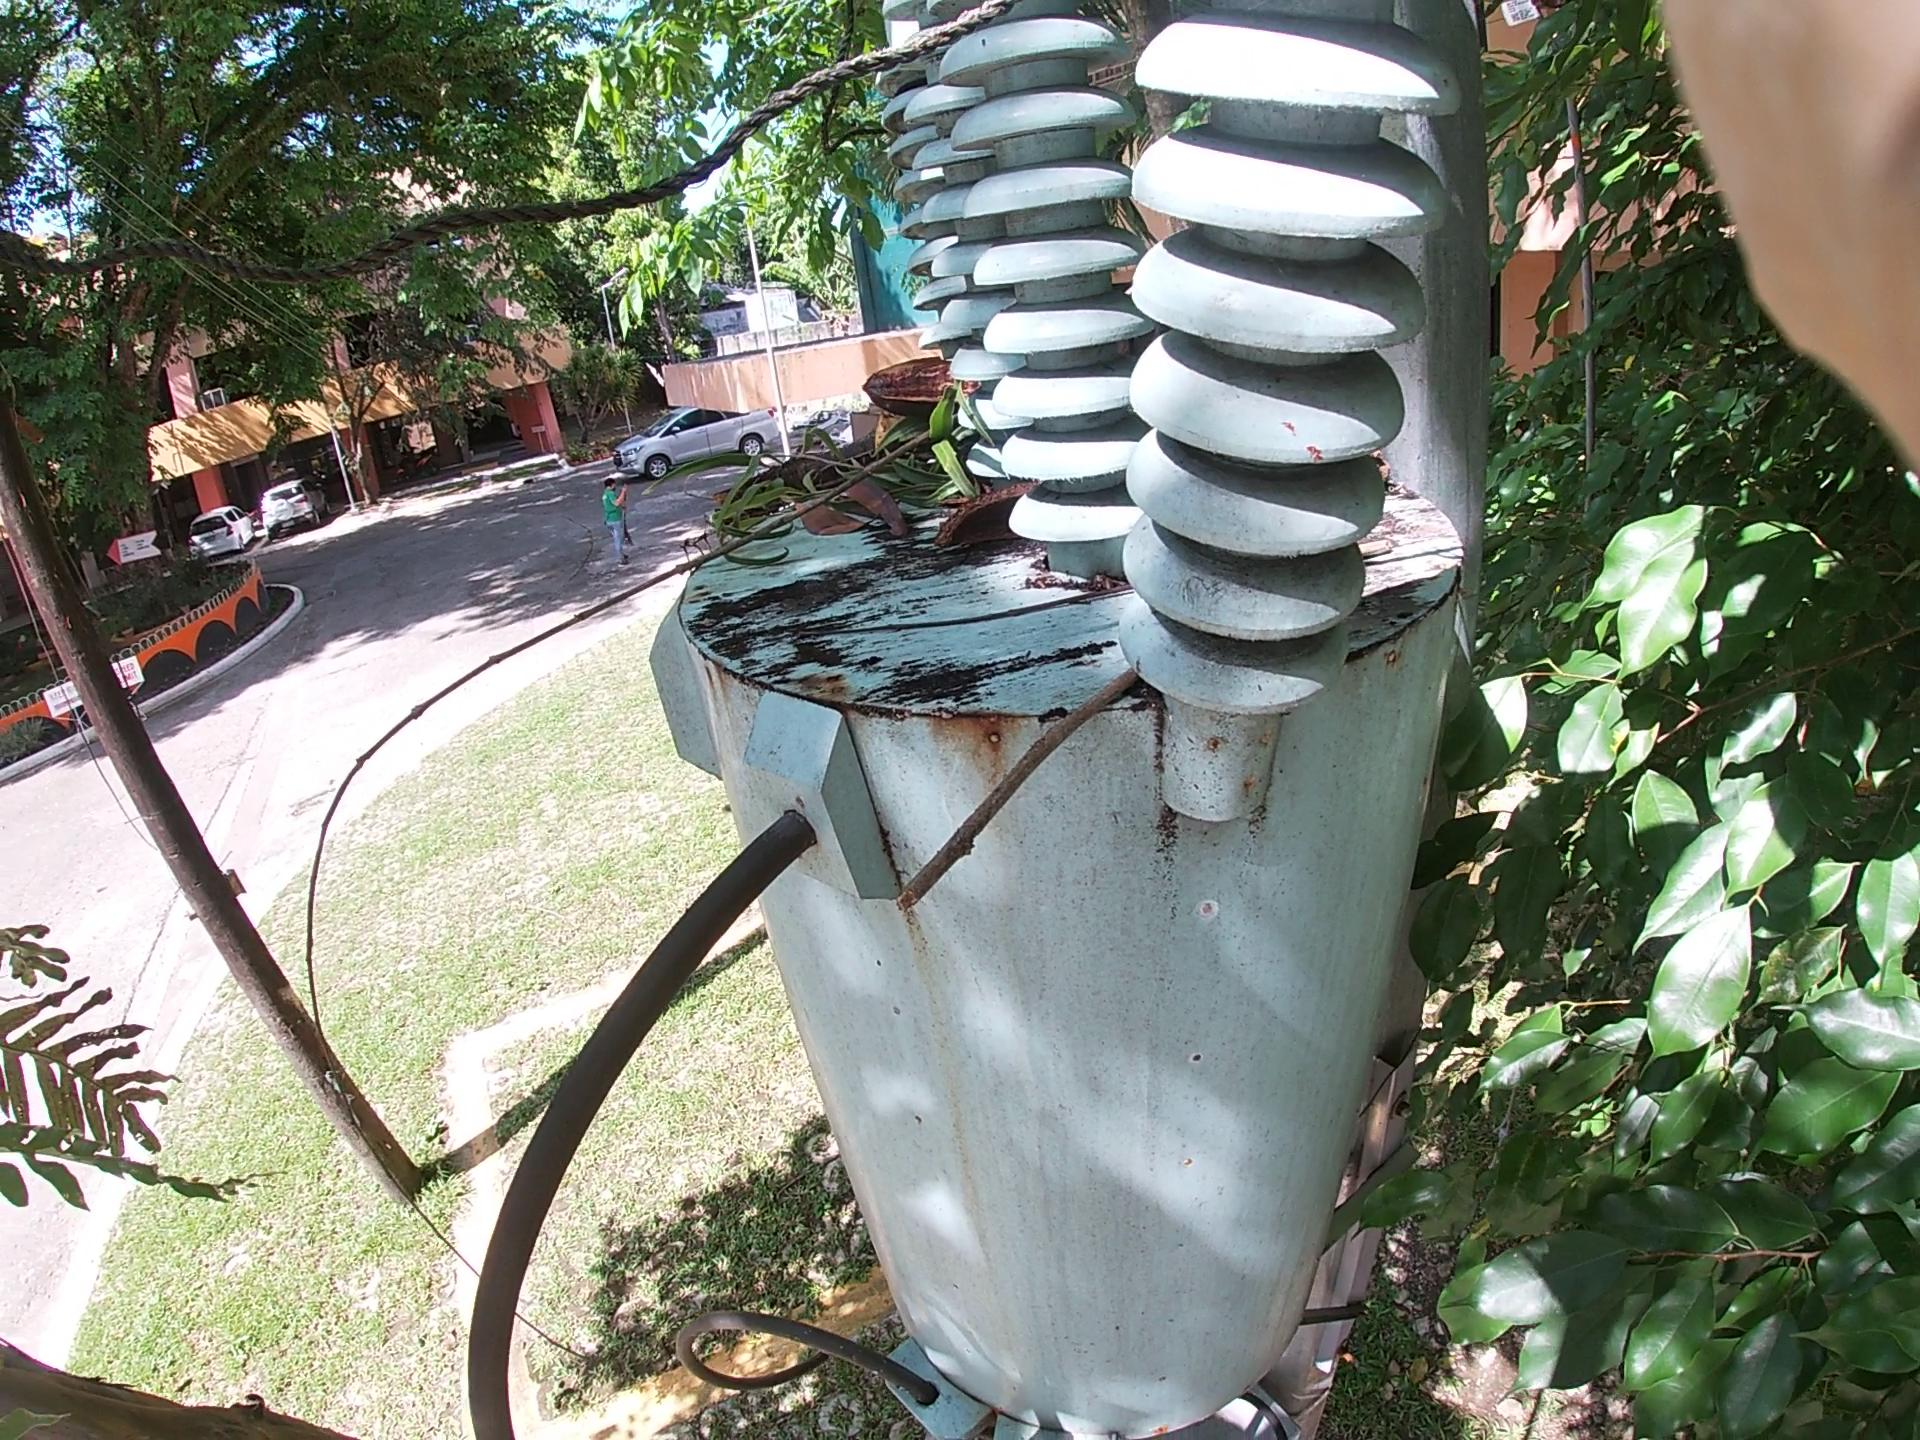branch with leaves: (594, 253, 1129, 532)
mahogany fruit: (869, 460, 1095, 575), (841, 284, 1011, 433)
tree branch: (429, 375, 931, 809), (893, 613, 1259, 917)
